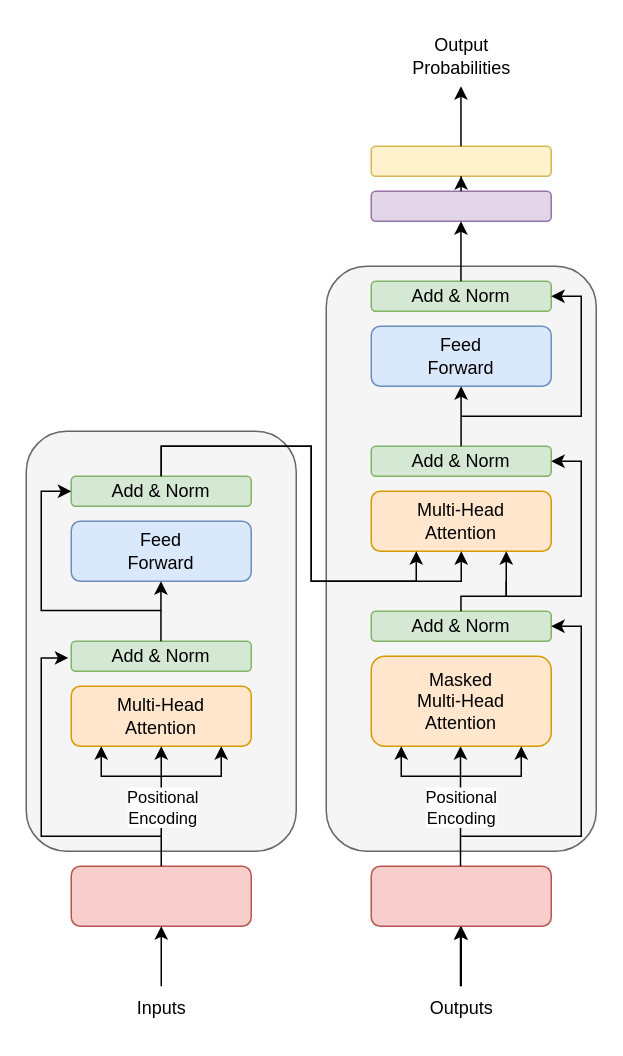
Some shapes in this 623 by 1056 pixel diagram are drawn without their labels. The shapes that lost their labels are listed below. From the top down, each one's box as (x1, y1, x2, y2) in pixels, then its label:
(370, 145, 551, 176): Softmax
(370, 190, 551, 221): Linear
(70, 865, 251, 926): Input Embedding
(370, 865, 551, 926): Output Embedding
